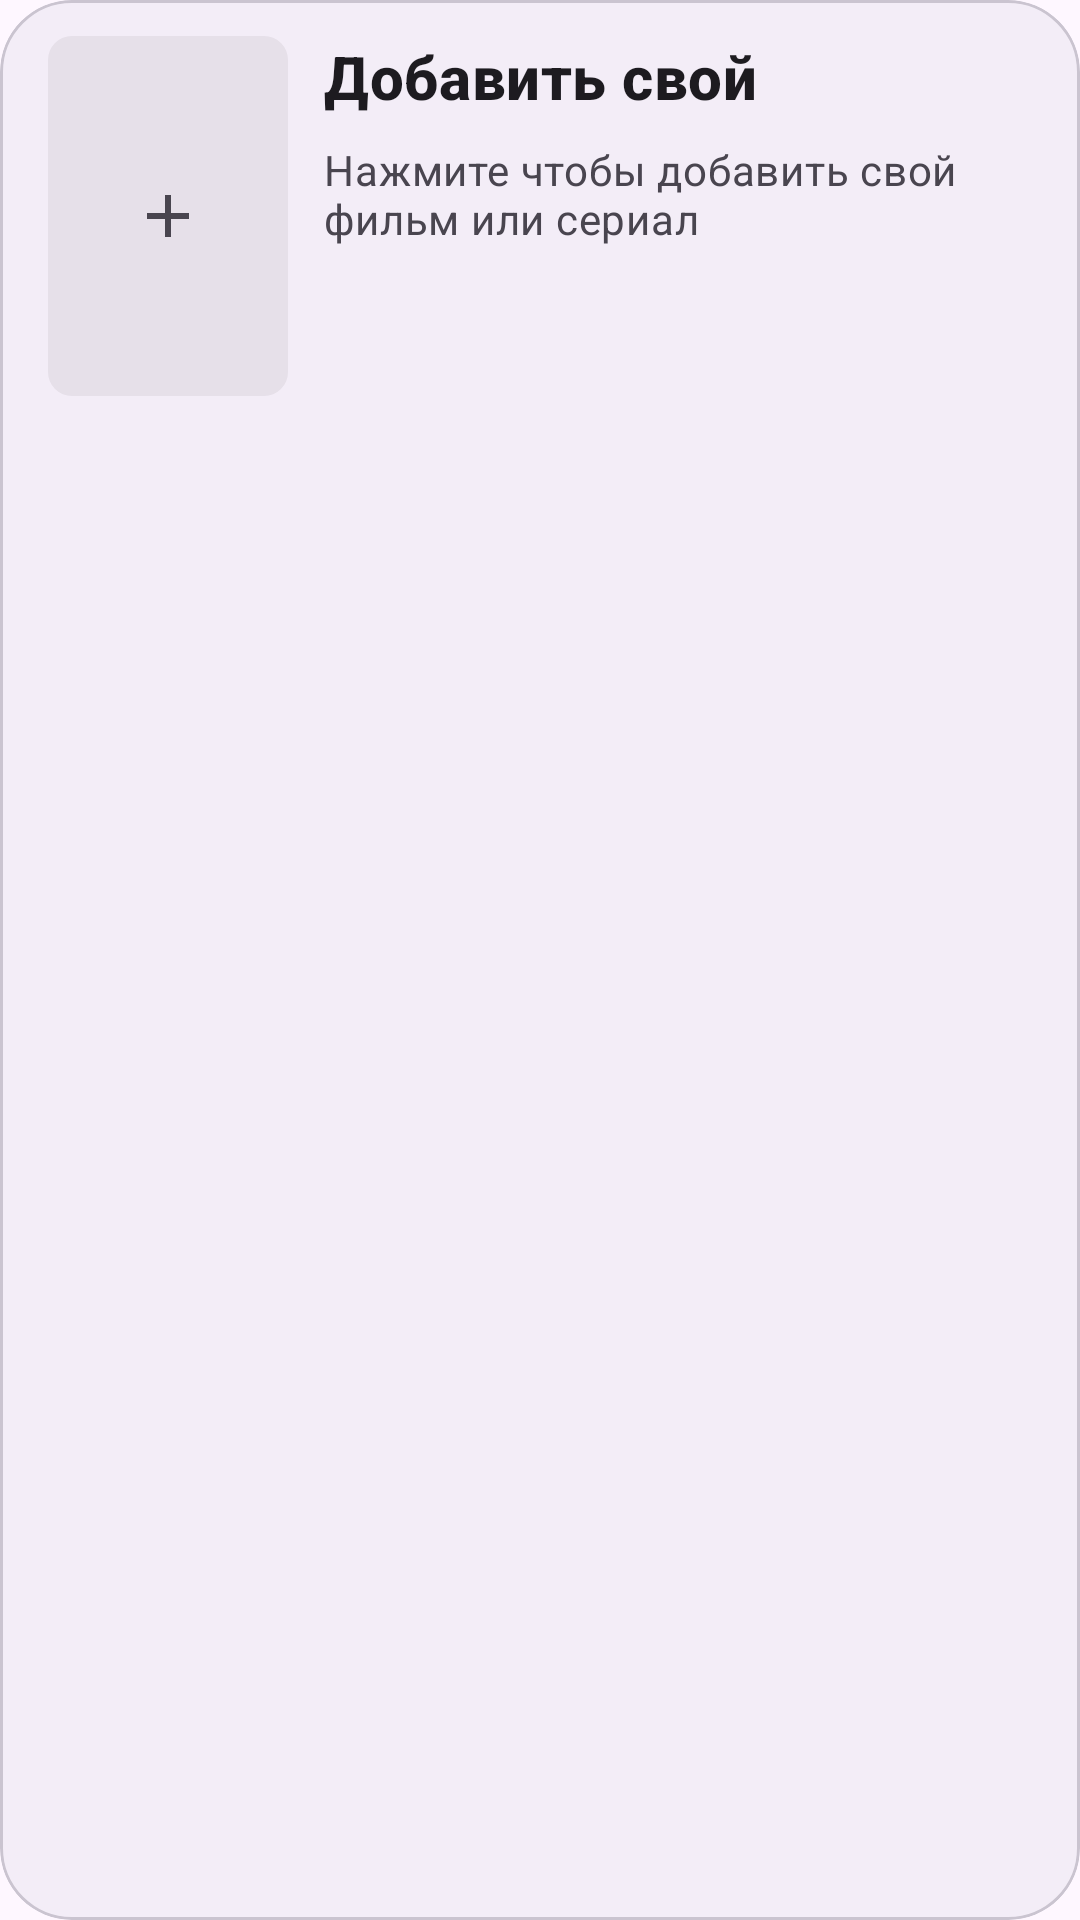

Screen size 1080px x 1920px. Icon name, then its center in pixels as (x,y):
Добавить товар: (168,216)
